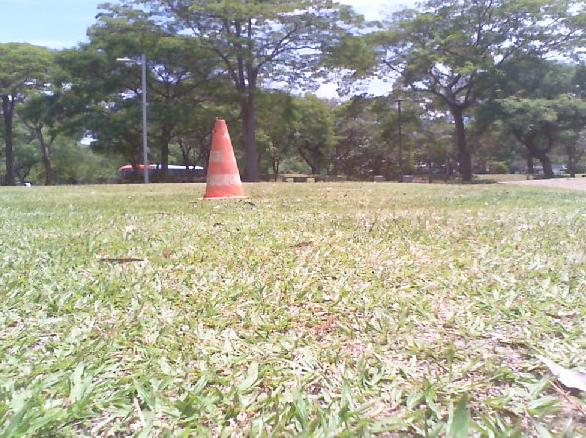0 cone: (197, 118, 249, 200)
